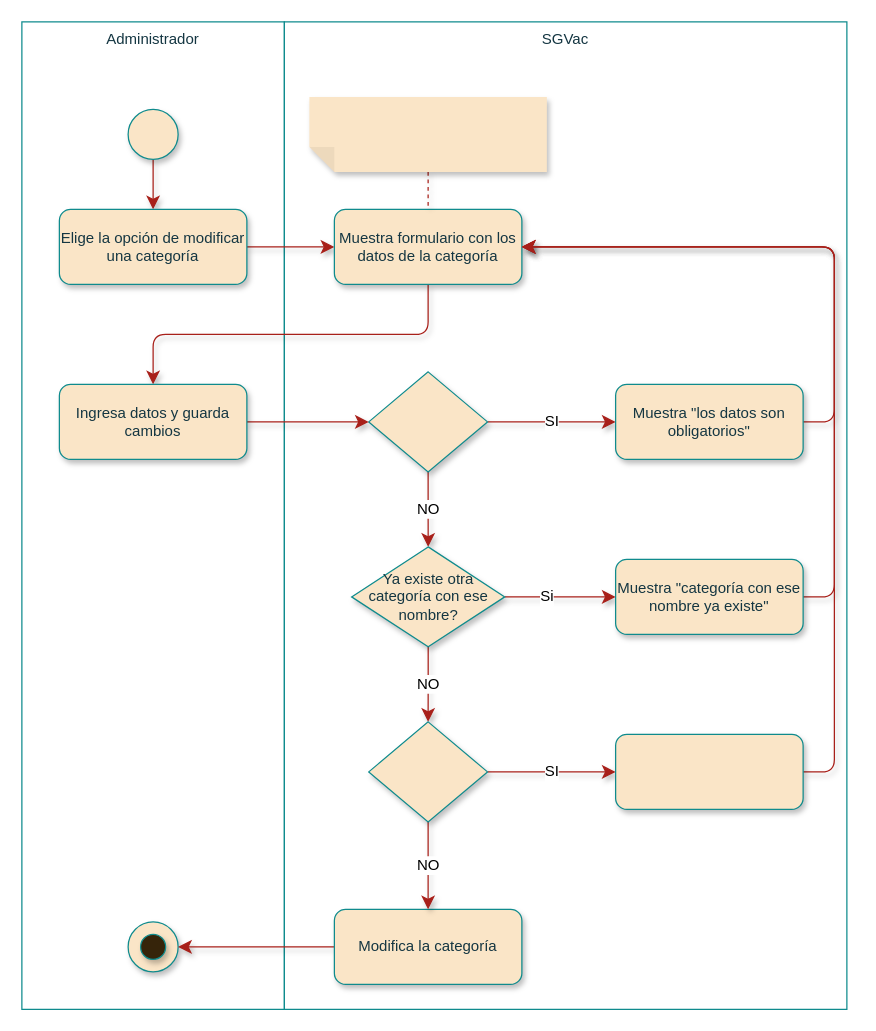
The diagram is 876 pixels wide and 1031 high, and some of its shapes have lost their labels. The shapes that lost their labels are listed below. From the top down, each one's centre as x and y in pixels, then its label:
(x=429, y=135): Nombre y orden de categoría
(x=428, y=423): Nombre vacío?
(x=428, y=773): Orden inválido?
(x=710, y=773): Muestra "orden inválido"
